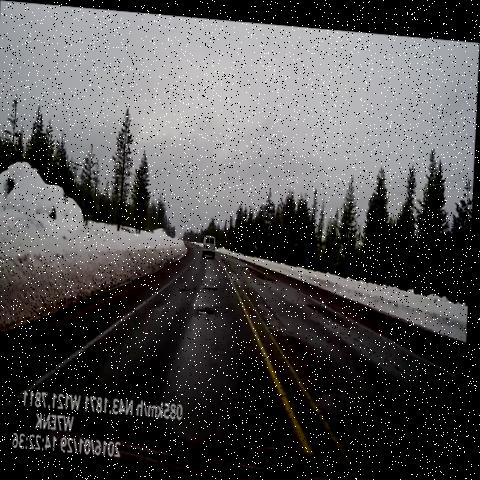pothole: (301, 289, 349, 333), (241, 252, 274, 284), (195, 300, 221, 315), (202, 281, 224, 293)
